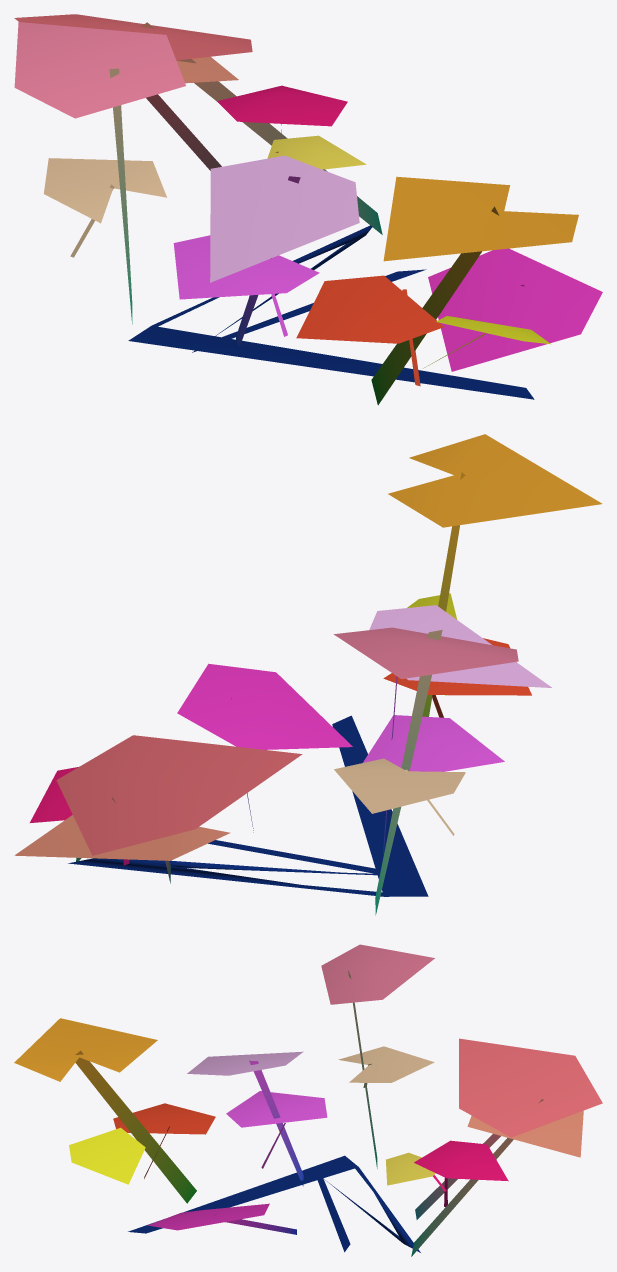
File: English_Ivy_xfcnebhqx_Mid_xfcnebhqx_VarH_LOD2.fbx
3 renders of one model, top to bottom at view 1: azimuth 30°, elevation 25°; view 2: azimuth 150°, elevation 25°; view 3: azimuth 270°, elevation 25°, orthographic. The views are drawn at different scales.
Visible parts, largest first — view 1: _fahx_VarH_LOD4; view 2: _fahx_VarH_LOD4; view 3: _fahx_VarH_LOD4.
Part boxes in pixels (box(x1,y1,x2,y2)): _fahx_VarH_LOD4: box(14, 14, 602, 405); _fahx_VarH_LOD4: box(14, 434, 602, 915); _fahx_VarH_LOD4: box(14, 944, 602, 1256).
Size of the model in its own units: 19.62 by 12.31 by 33.65.
